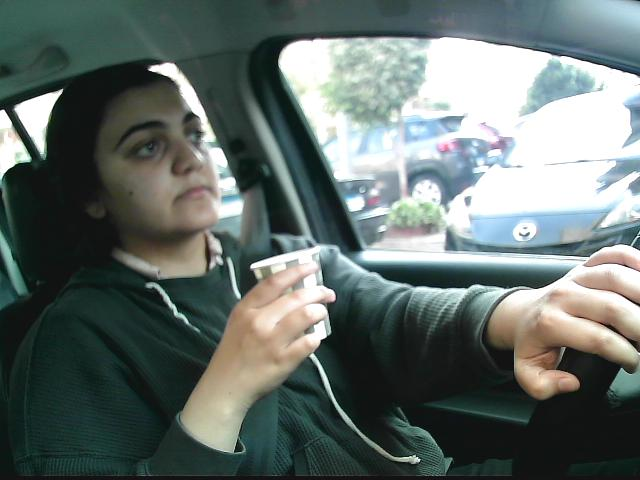Drinking: (249, 238, 339, 353)
